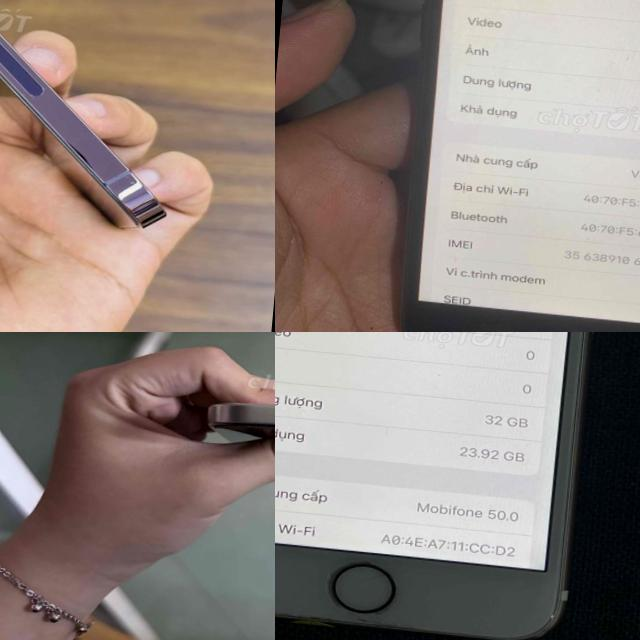scratch: (275, 598, 460, 638), (315, 553, 403, 615)
